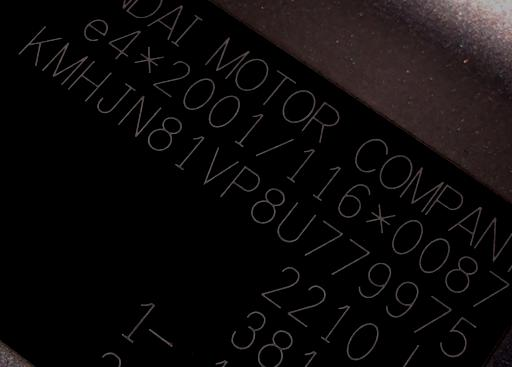letter: (16, 22, 64, 70), (114, 92, 164, 137), (38, 42, 88, 85), (66, 60, 114, 102), (412, 294, 454, 337), (301, 218, 345, 259), (328, 236, 372, 277), (276, 198, 316, 243), (216, 163, 264, 200), (200, 146, 240, 189), (438, 316, 478, 358), (249, 185, 287, 225), (384, 277, 420, 319), (356, 259, 392, 299), (95, 81, 137, 115), (146, 115, 184, 152), (170, 133, 206, 172)
